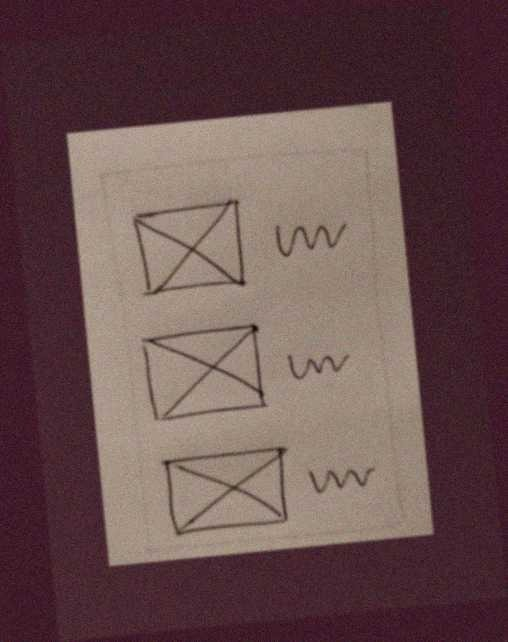image: (135, 318, 273, 430), (152, 440, 299, 543), (126, 195, 253, 309)
text: (268, 209, 353, 269), (306, 457, 386, 510), (286, 341, 357, 390)
